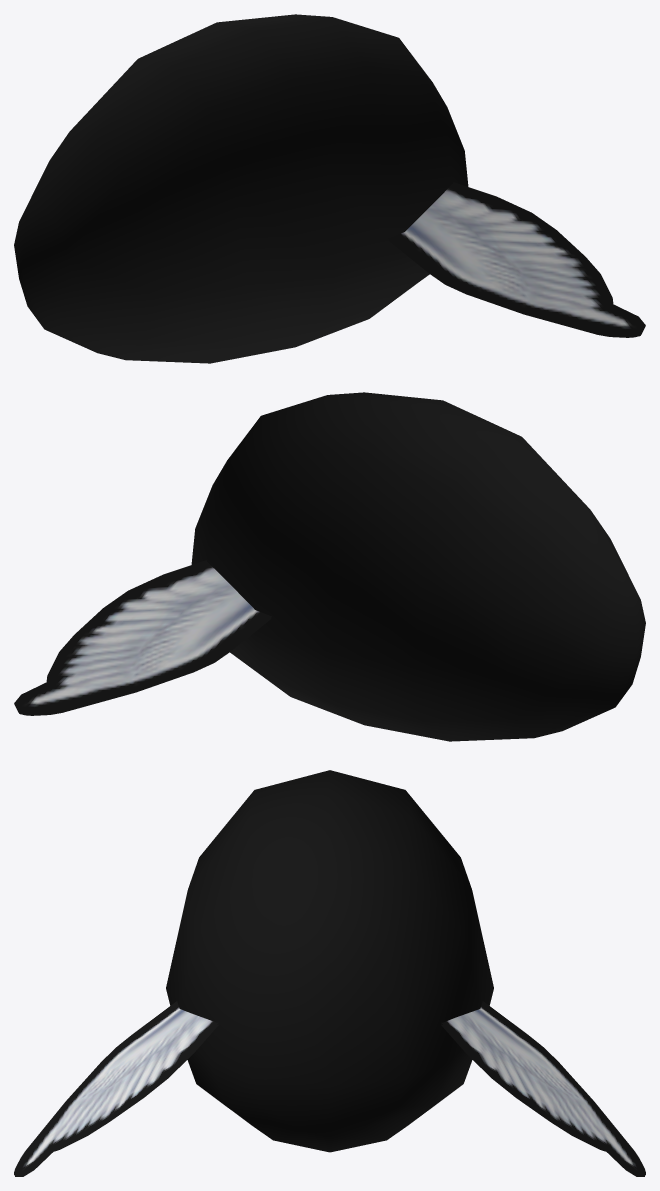
The model's file is OPA.ICO.obj.
3 renders of one model, top to bottom at view 1: azimuth 30°, elevation 25°; view 2: azimuth 150°, elevation 25°; view 3: azimuth 270°, elevation 25°, orthographic. The views are drawn at different scales.
Size of the model in its own units: 4.07 by 2.5 by 4.5.
1 material, 1 textured.
